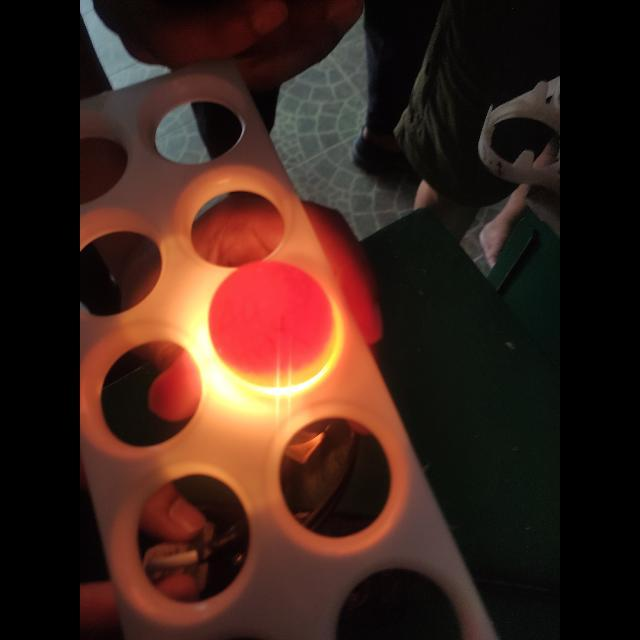A - Good: (202, 255, 352, 399)
